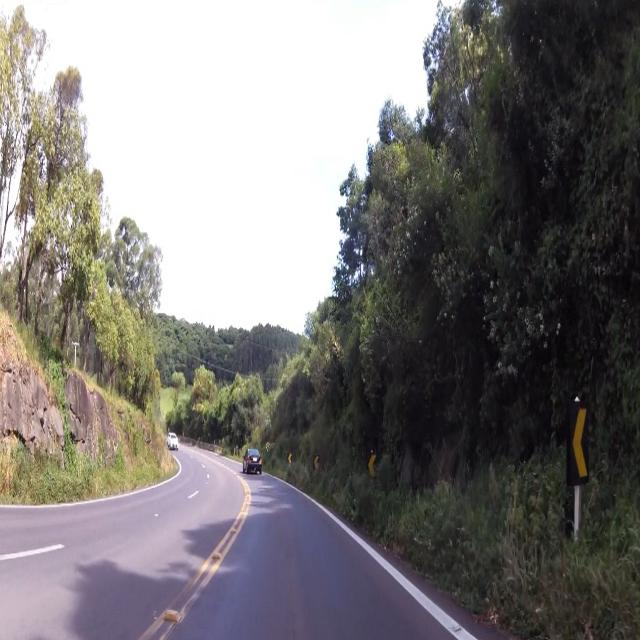Del: (568, 399, 594, 488), (370, 455, 376, 480)
